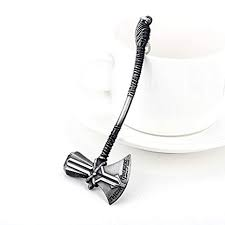THOR Hammer: (58, 12, 149, 207)
